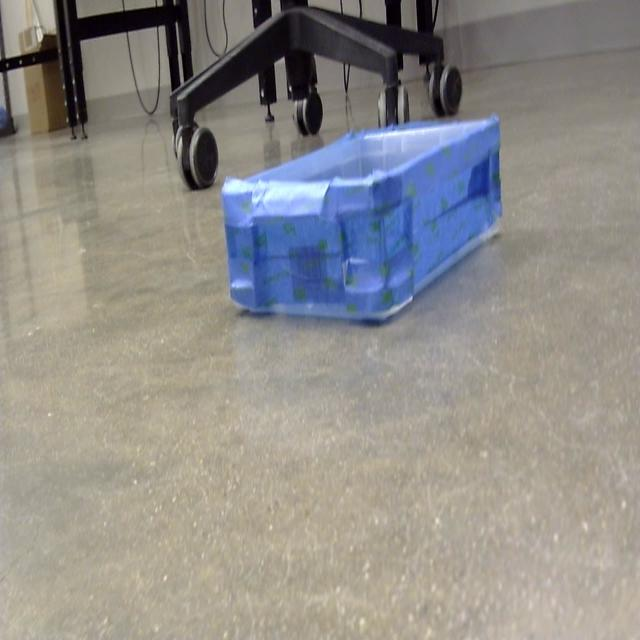bucket: (220, 116, 503, 328)
